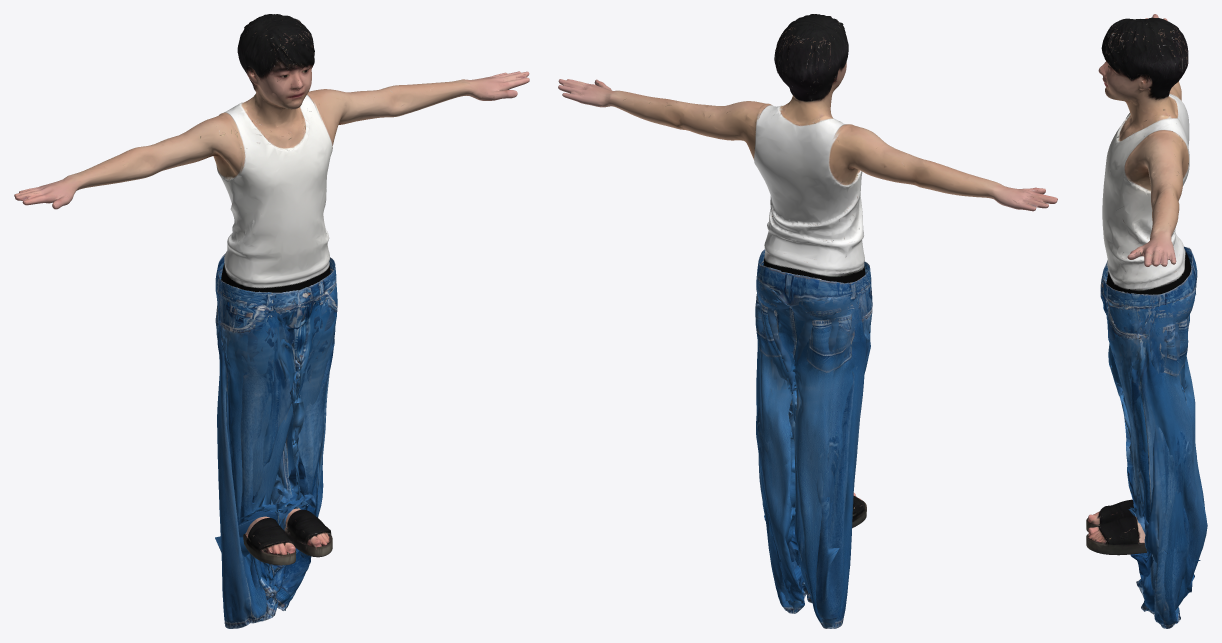
File: 3e3a3d35-e3af-46e9-99dc-5327e45b61ee-full.glb
The picture shows the model from 3 angles, left to right: view 1: azimuth 30°, elevation 25°; view 2: azimuth 150°, elevation 25°; view 3: azimuth 270°, elevation 25°; orthographic projection. The views are drawn at different scales.
Parts seen in each view (by area): view 1: Body_Feet, Mesh_0.001; view 2: Mesh_0.001, Body_Feet; view 3: Body_Feet, Mesh_0.001.
Part boxes in pixels (x1,y1,x2,y2): Body_Feet: (14,14,529,565); Mesh_0.001: (215,253,337,628); Mesh_0.001: (755,249,872,628); Body_Feet: (558,14,1057,528); Body_Feet: (1086,14,1191,555); Mesh_0.001: (1100,246,1207,628).
Bounding box in the file's own units: 1.91 × 2.17 × 0.3932.
Materials: 2 (2 with a texture image).
